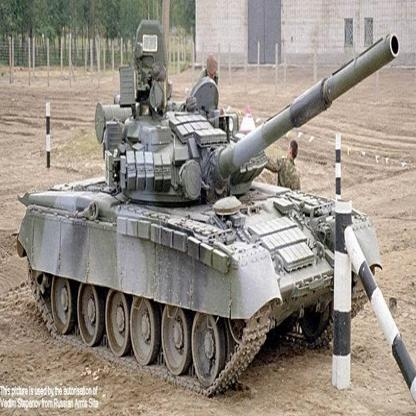Tank: (18, 17, 406, 399)
